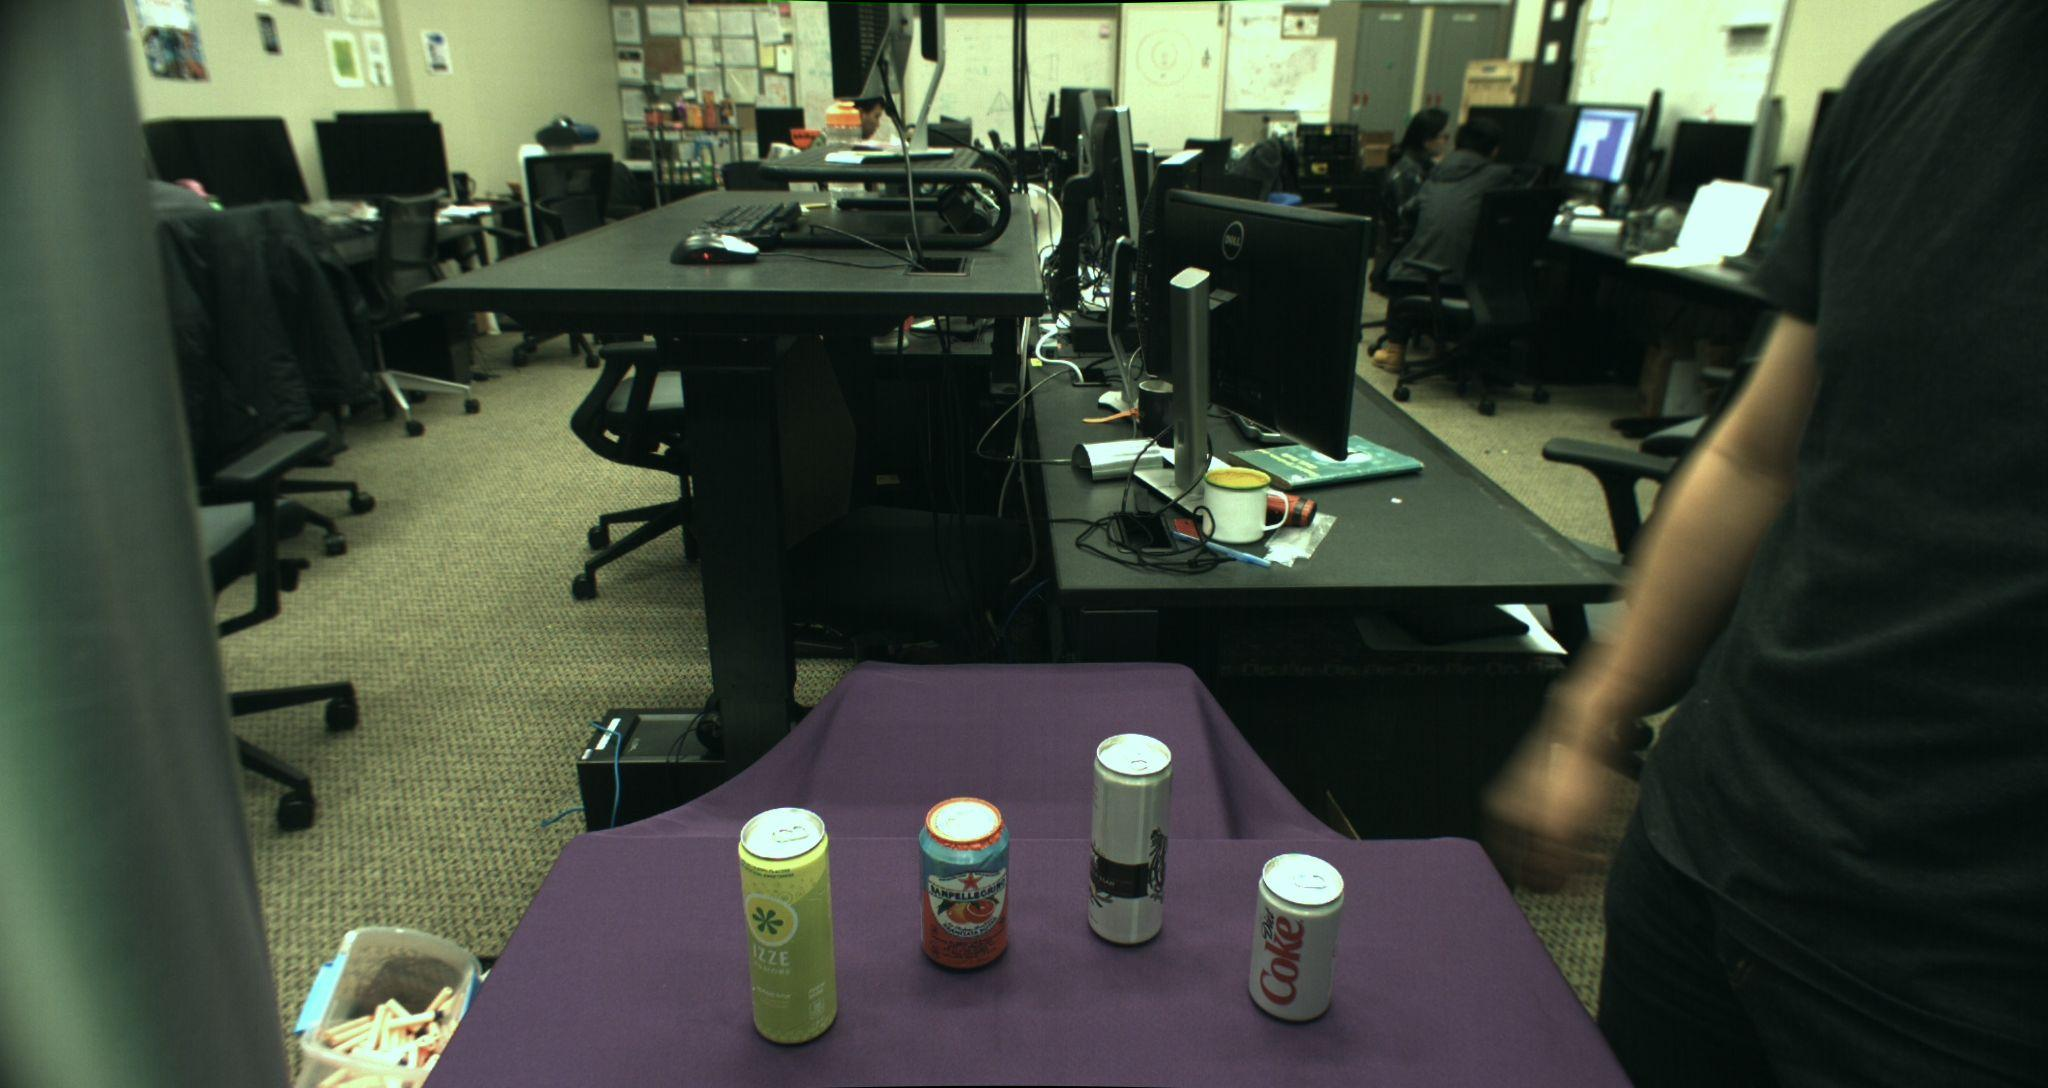can_diet_coke_small: (1249, 852, 1345, 1023)
can_dry_sparkling_vanilla_bean: (1088, 732, 1174, 944)
can_izze_fusions_lemon_lime: (738, 808, 838, 1045)
can_sanpellegrino_blood_orange: (917, 797, 1009, 971)
